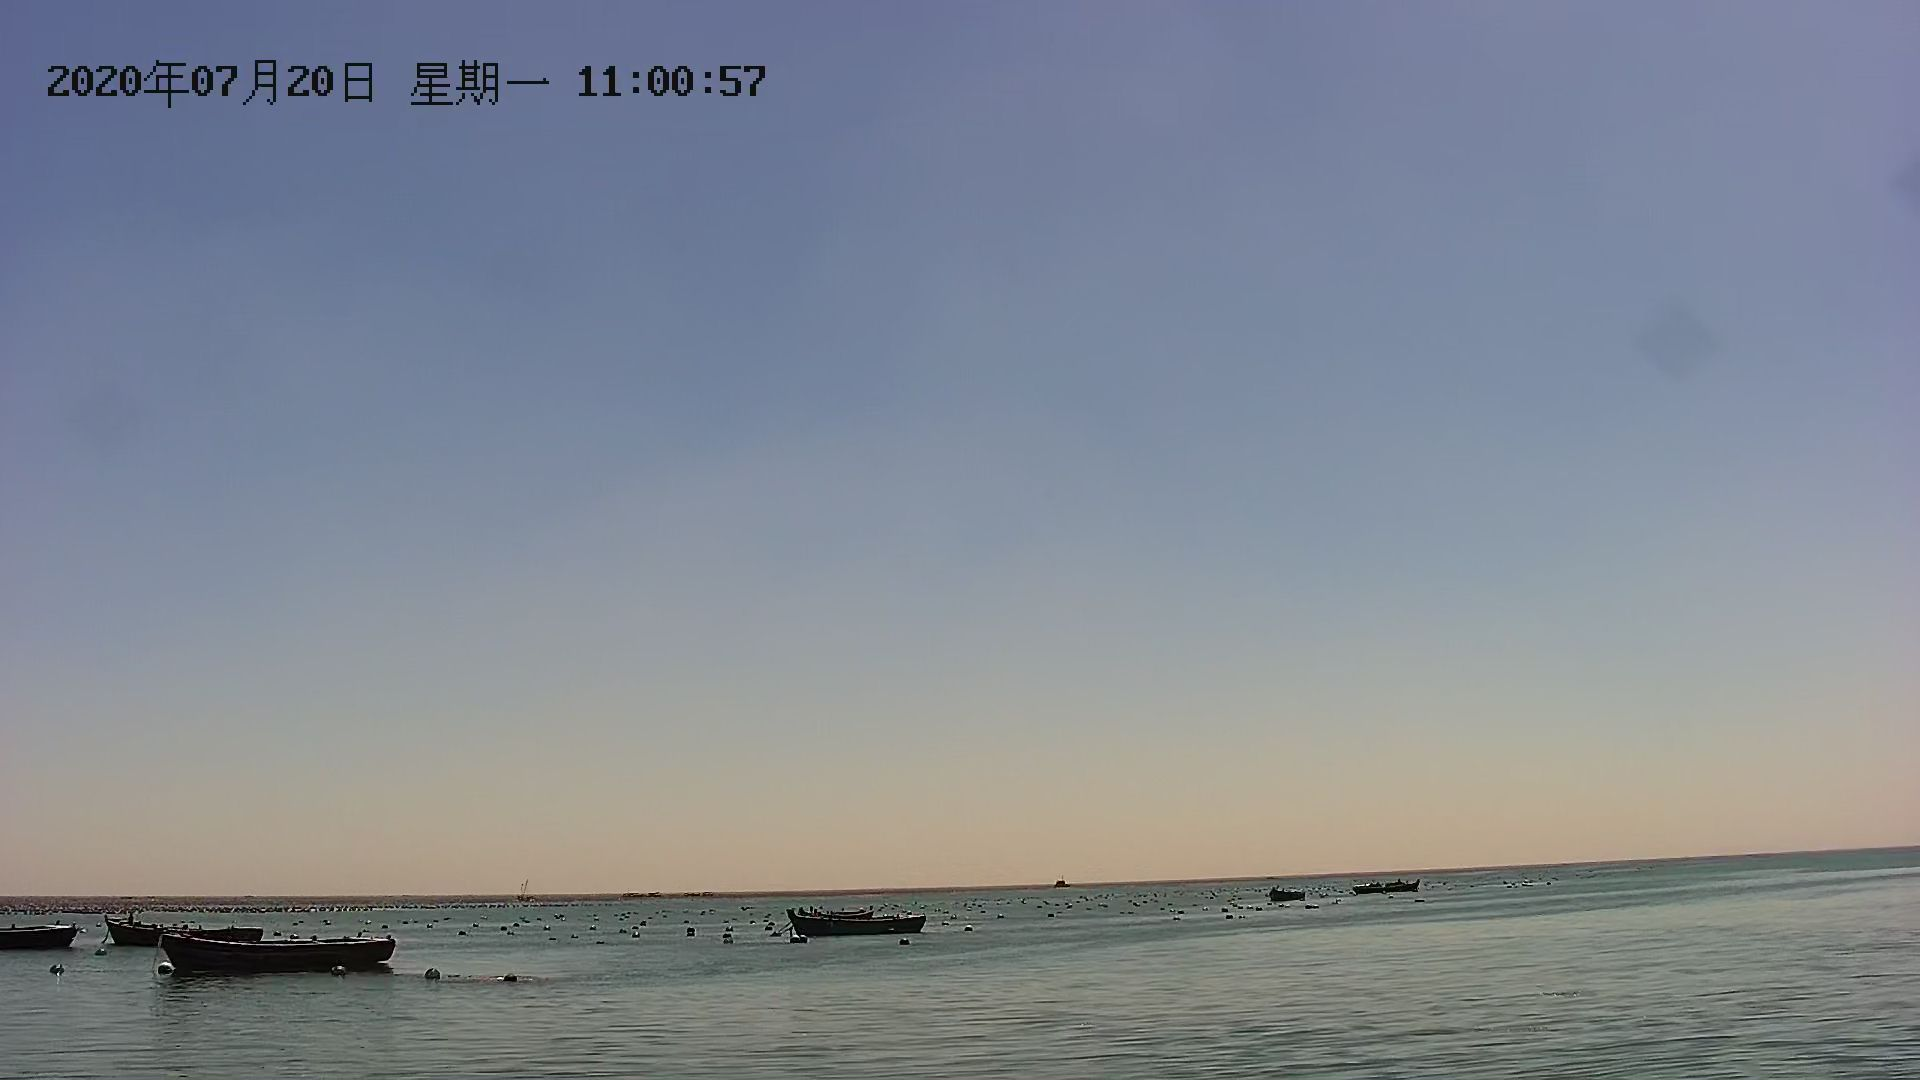ball: (419, 963, 443, 982)
boat: (150, 924, 397, 978), (95, 915, 264, 956), (782, 910, 928, 939), (1348, 878, 1422, 897), (1269, 887, 1309, 905)
